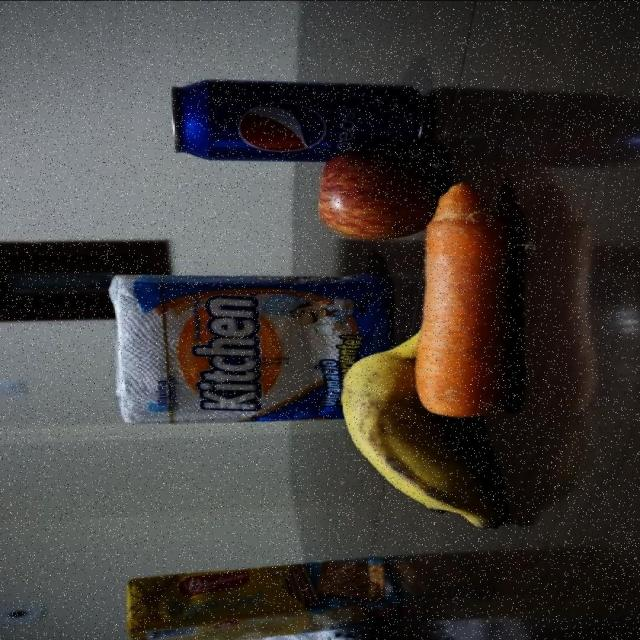Apple: (315, 146, 452, 242)
Banana: (338, 327, 514, 530)
Carrot: (412, 178, 508, 422)
Cracker: (121, 553, 402, 640)
Napkin: (109, 270, 392, 426)
SodaCan: (169, 77, 434, 164)
